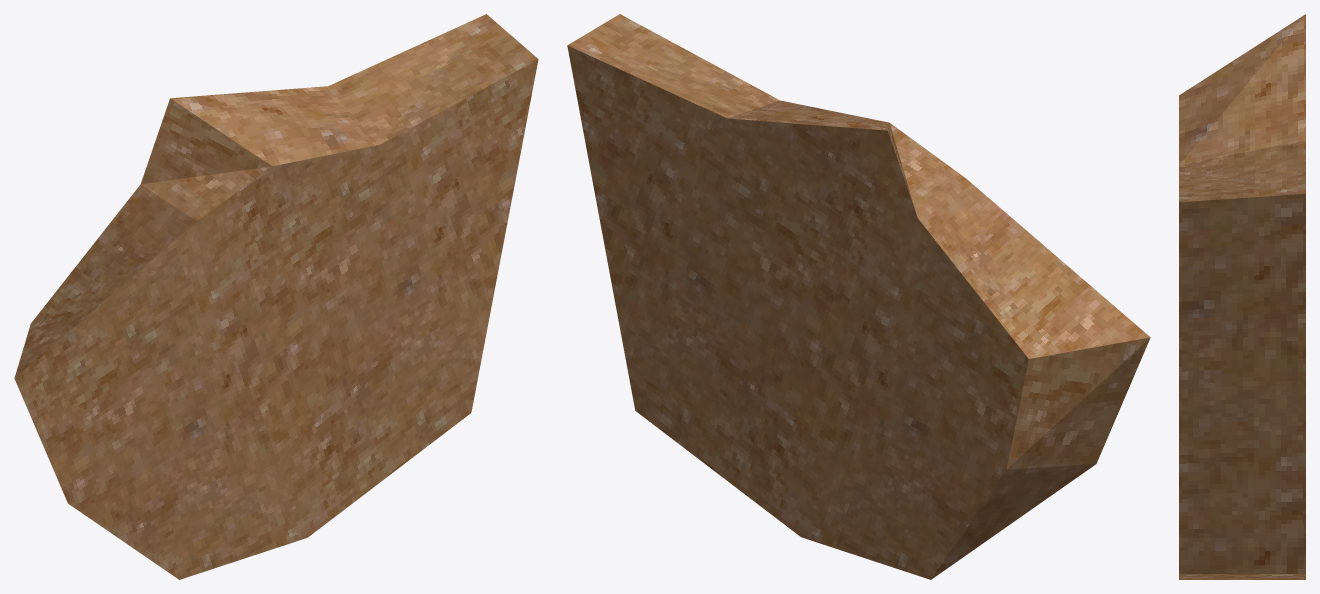
Rendered from stg200_obj_ginger_bp2.obj.
3 views of the same model, side by side, from view 1: azimuth 30°, elevation 25°; view 2: azimuth 150°, elevation 25°; view 3: azimuth 270°, elevation 25° (orthographic). The views are drawn at different scales.
Visible parts, largest first — view 1: polygon0; view 2: polygon0; view 3: polygon0.
Part boxes in pixels (box(x1,y1,x2,y2)): polygon0: box(14, 14, 538, 579); polygon0: box(567, 14, 1150, 579); polygon0: box(1179, 14, 1305, 579).
Bounding box in the file's own units: 8.84 × 7.1 × 1.52.
Materials: 1 (1 with a texture image).
